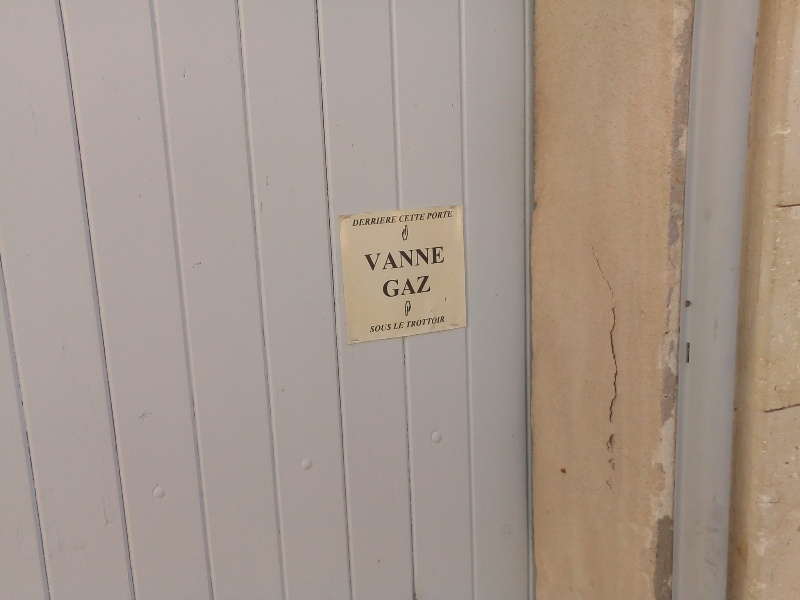text: (369, 246, 384, 272), (385, 246, 400, 272), (401, 246, 416, 272), (417, 246, 432, 272), (385, 275, 400, 299), (401, 275, 416, 299), (417, 275, 432, 299), (433, 246, 445, 272), (417, 316, 432, 329), (369, 216, 384, 227), (433, 316, 445, 329), (354, 216, 368, 227), (401, 213, 416, 223), (433, 210, 448, 220), (385, 216, 398, 227), (363, 246, 368, 272), (371, 324, 384, 334), (406, 316, 416, 329), (417, 213, 426, 223), (385, 324, 392, 334), (449, 210, 454, 220), (382, 275, 384, 299), (394, 322, 400, 330), (428, 210, 432, 220), (401, 322, 404, 330)
